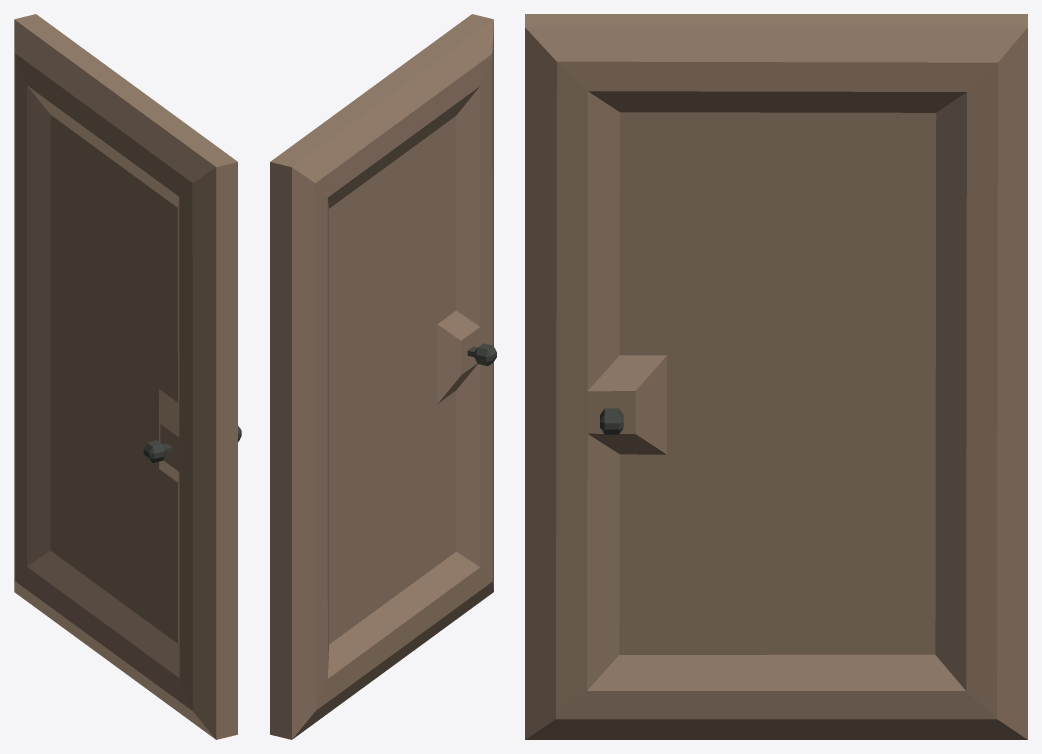
The model's file is w_r_door.glb.
3 views of the same model, side by side, from view 1: azimuth 30°, elevation 25°; view 2: azimuth 150°, elevation 25°; view 3: azimuth 270°, elevation 25° (orthographic). The views are drawn at different scales.
Visible parts, largest first — view 1: Door, Handles; view 2: Door, Handles; view 3: Door.
Boxes of the visible parts, box(x1,y1,x2,y2) form: Door: box(14, 14, 237, 739); Handles: box(143, 426, 241, 462); Door: box(270, 14, 493, 739); Handles: box(467, 343, 496, 366); Door: box(525, 14, 1027, 739).
Bounding box in the file's own units: 0.8444 × 4.99 × 3.19.
